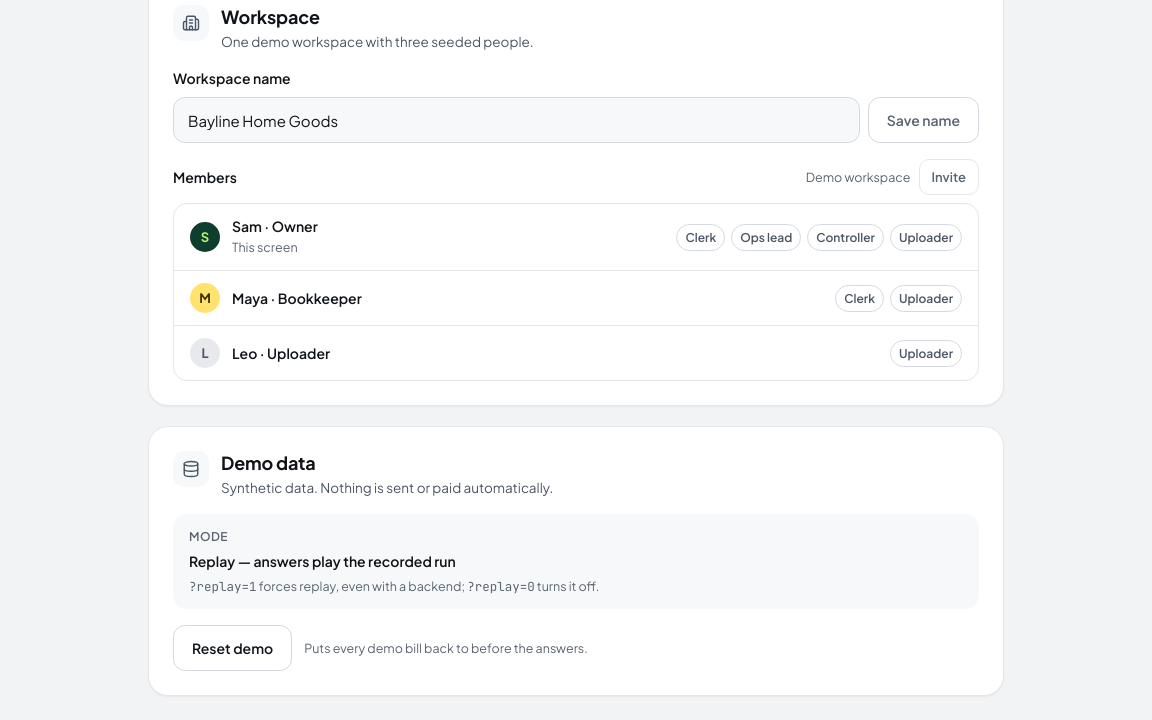
Test: settings › shows replay mode without a backend and resets the demo
(page scrolled)
Check: the element "Demo data" shows "Replay — answers play the recorded run", box [189,552,456,570]
Check: the element "Demo data" shows "?replay=1 forces replay", box [148,426,1004,696]
Click the button "Reset demo".
click(233, 648)  # box [173,625,292,671]
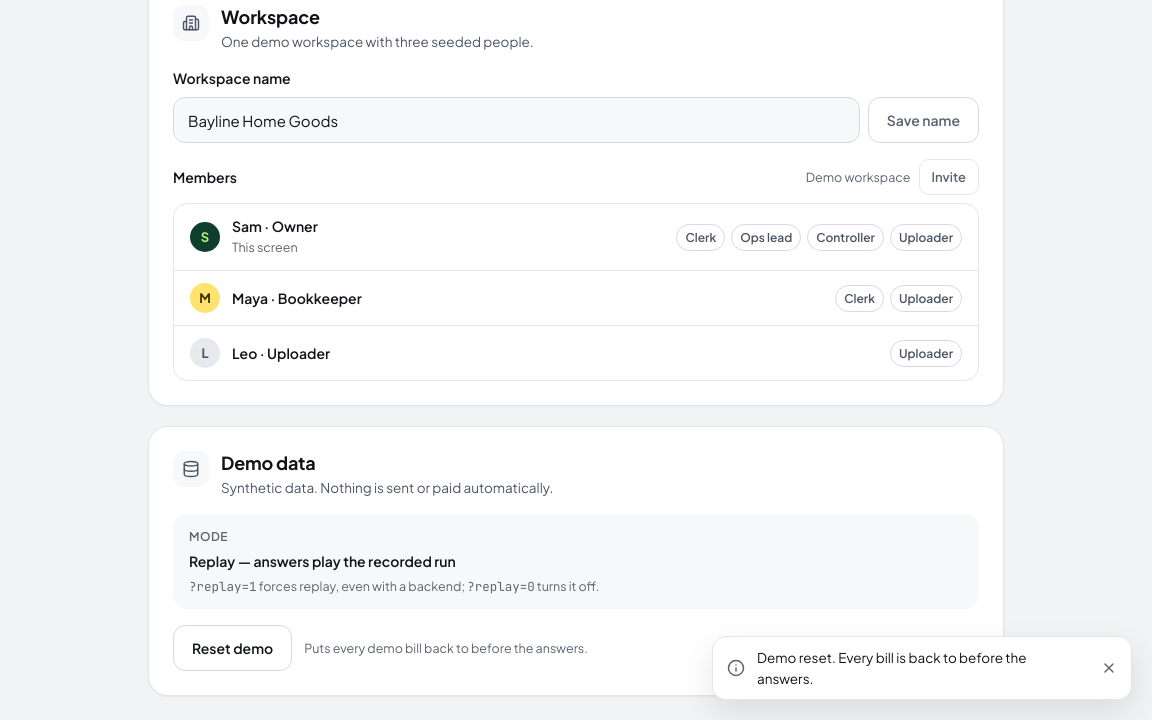
Check: the text "Demo reset. Every bill is back to before the answers." is shown, box [757,649,1027,687]
